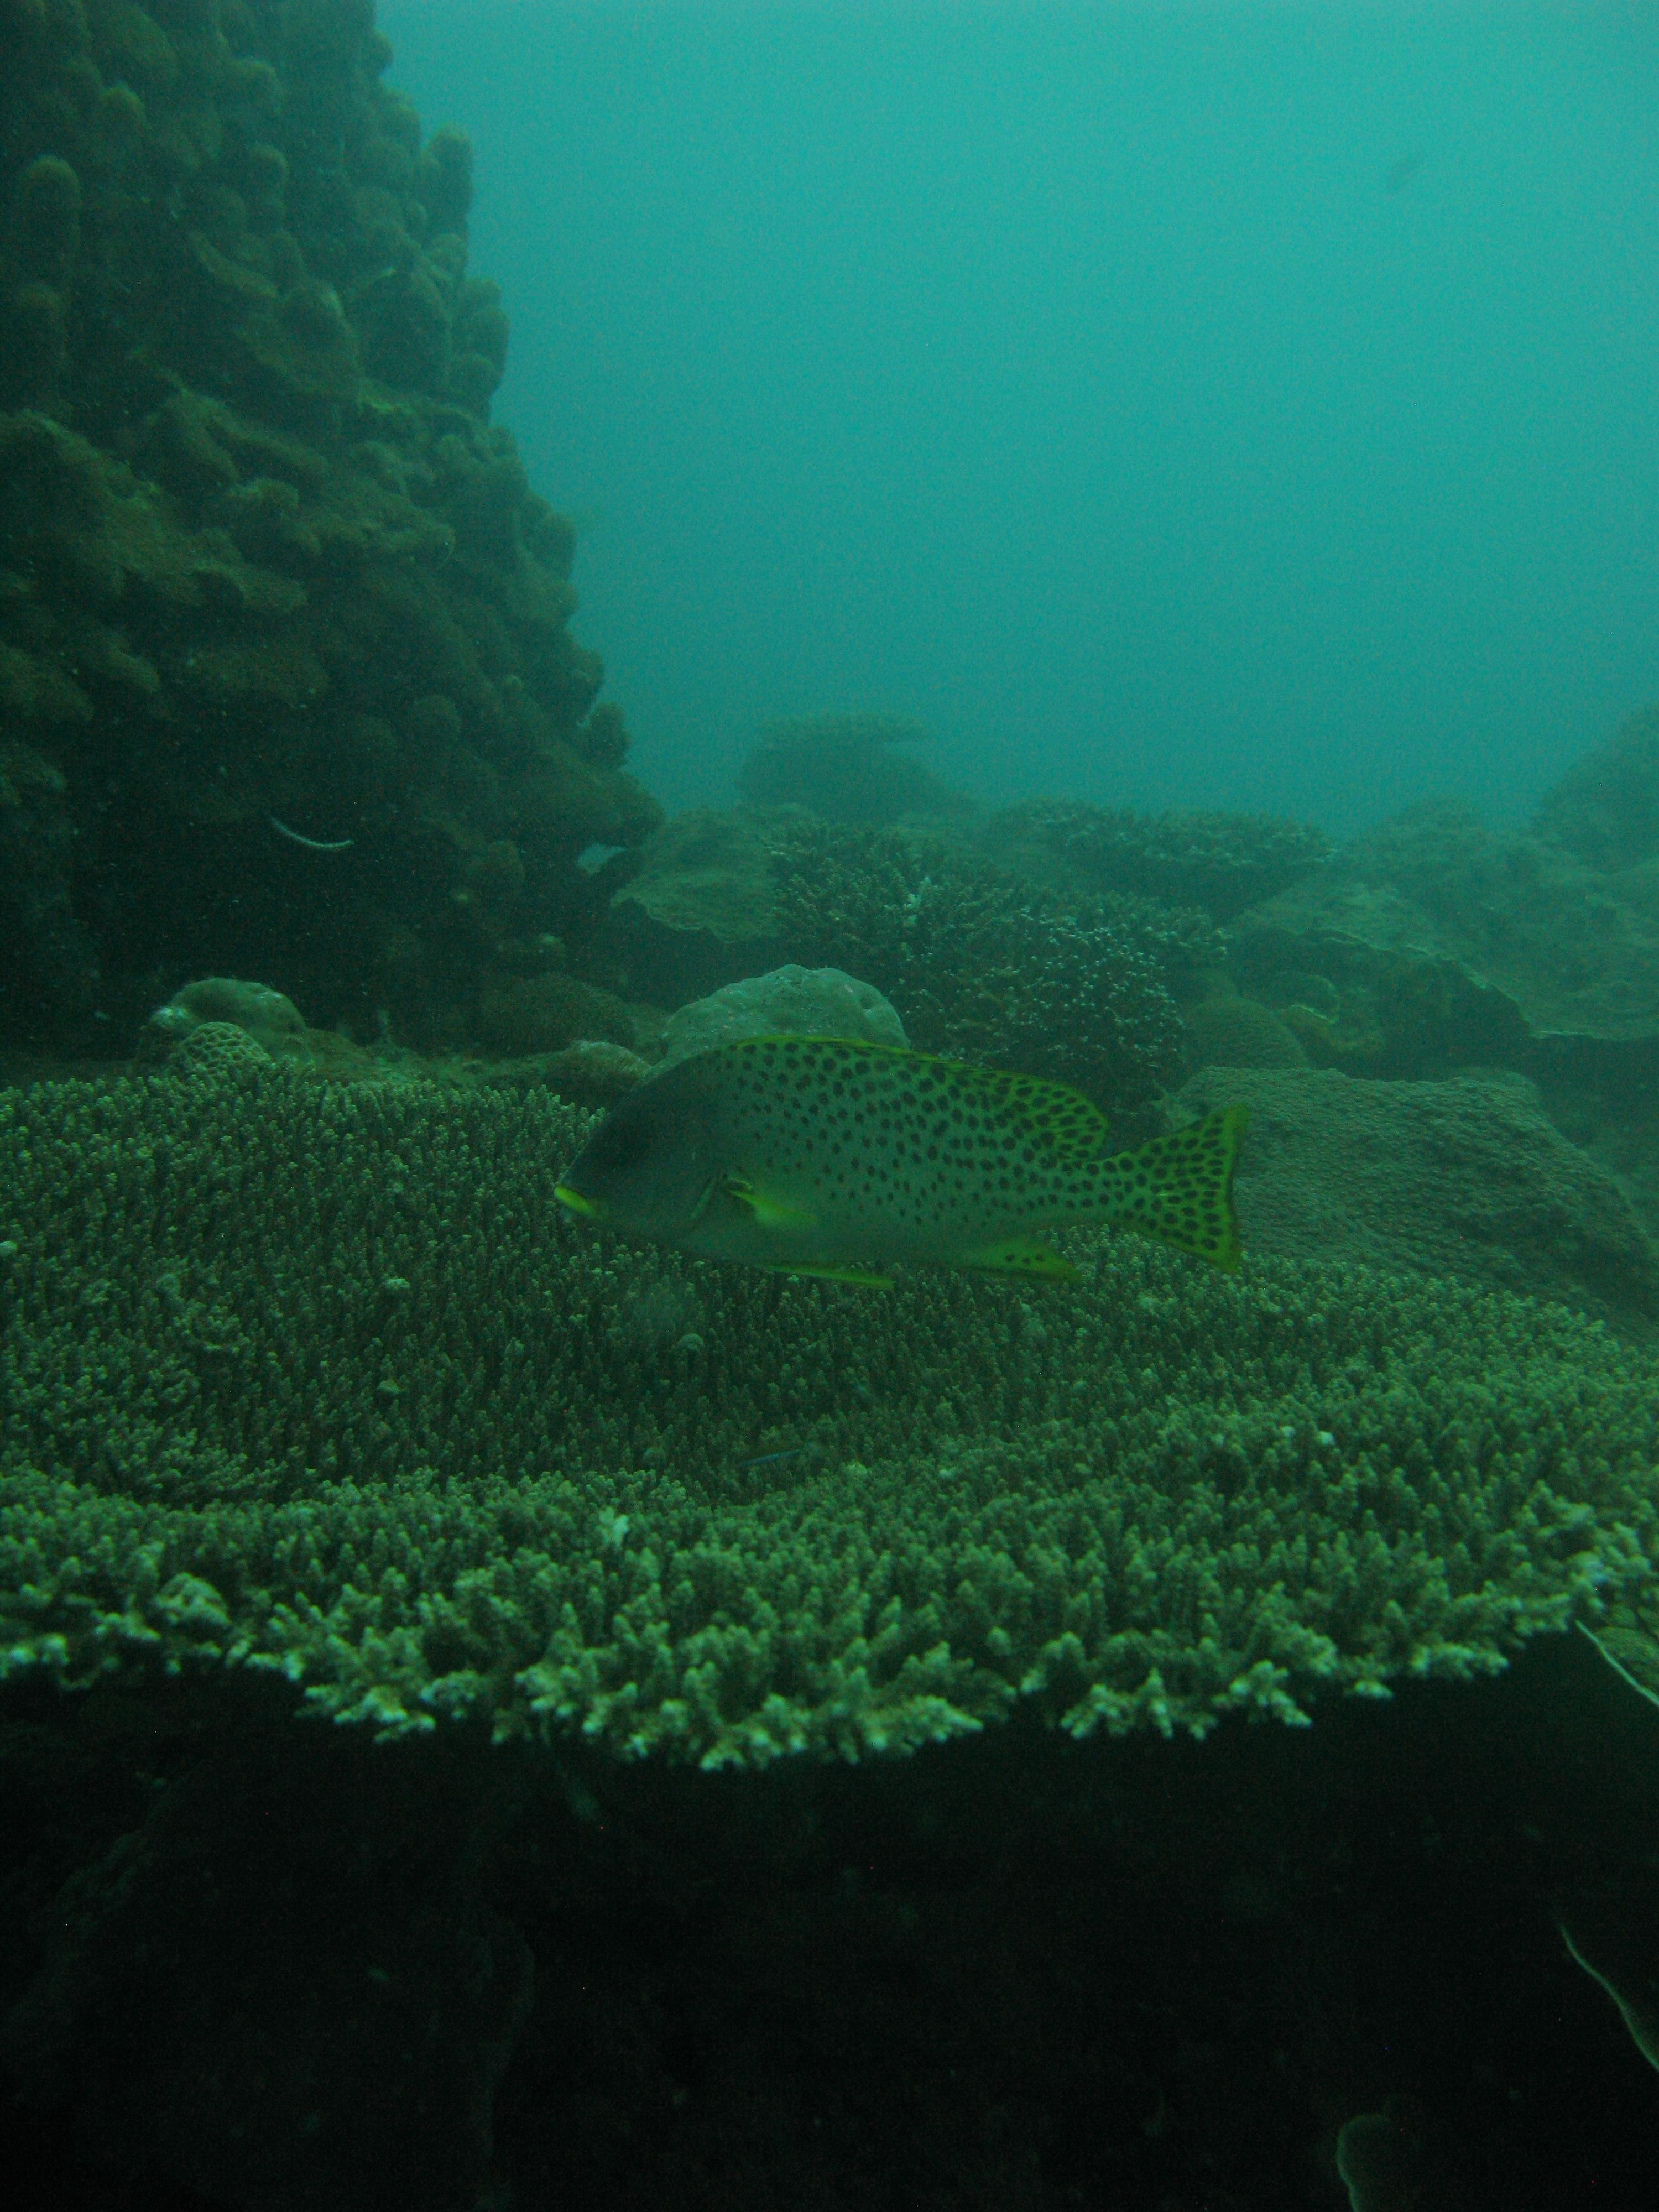Fish: (565, 1019, 1305, 1310)
